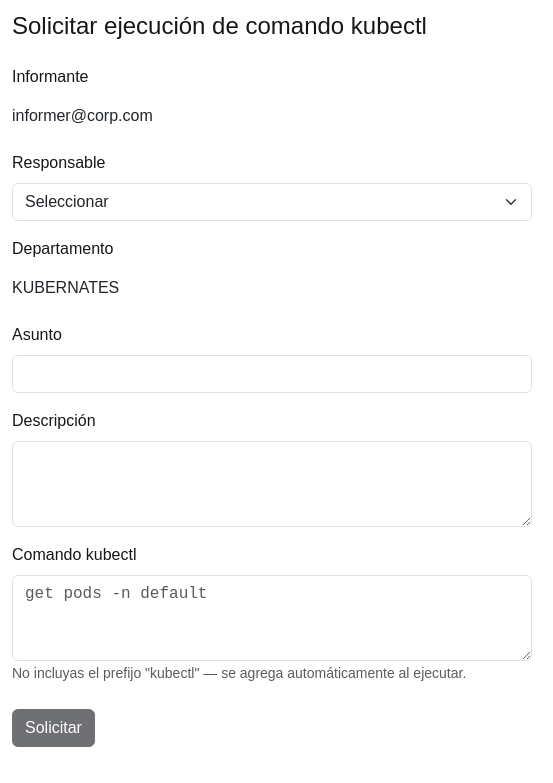
Test: KubectlCommandTicketForm › creates the ticket, shows a success message and clears the typed fields
Select "Ana" in the dropdown labelled "Responsable" at (272, 202), box left=12, top=183, right=532, bottom=221
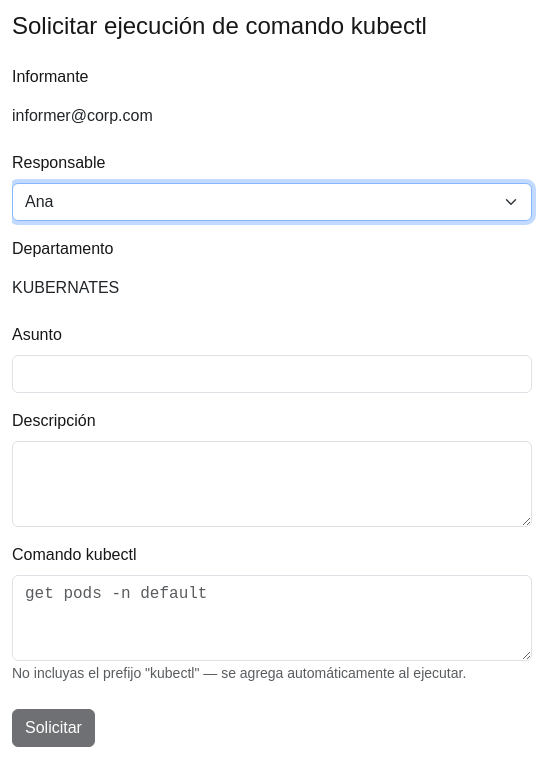
Type "Add index" into the field labelled "Asunto" at (272, 374), box left=12, top=355, right=532, bottom=393
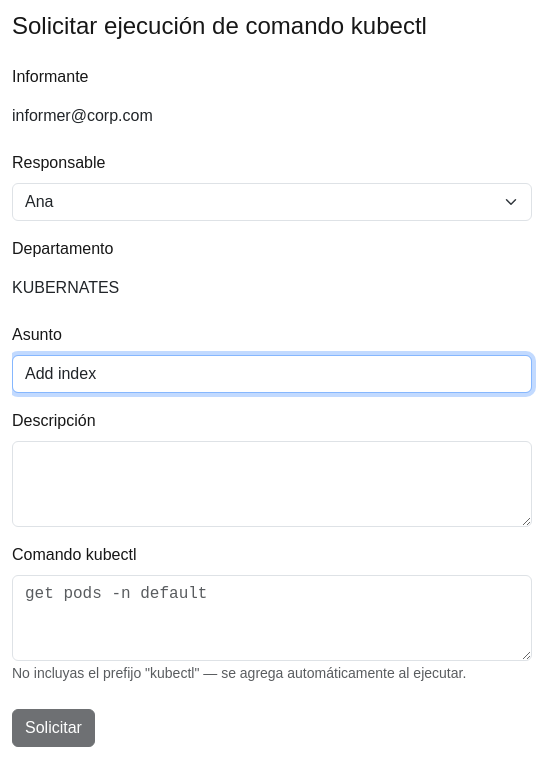
Type "Needs an index" into the text box labelled "Descripción" at (272, 484), box left=12, top=441, right=532, bottom=527
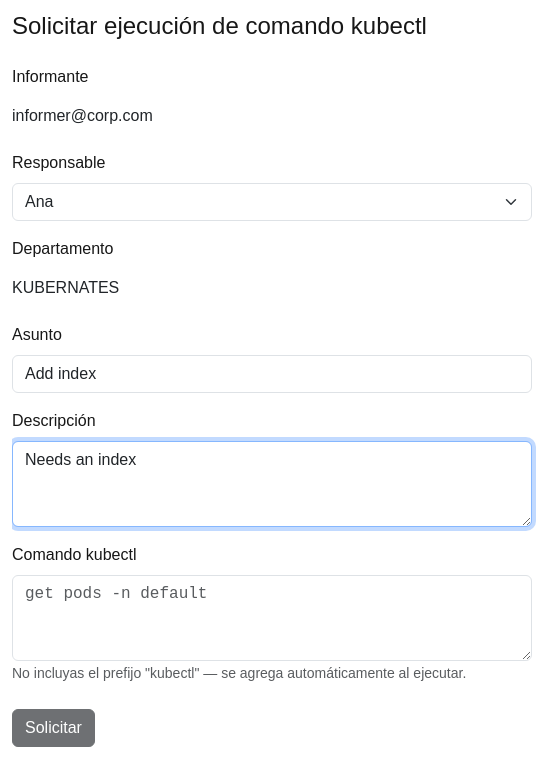
Type "get pods" into the text box labelled "Comando kubectl" at (272, 618), box left=12, top=575, right=532, bottom=661
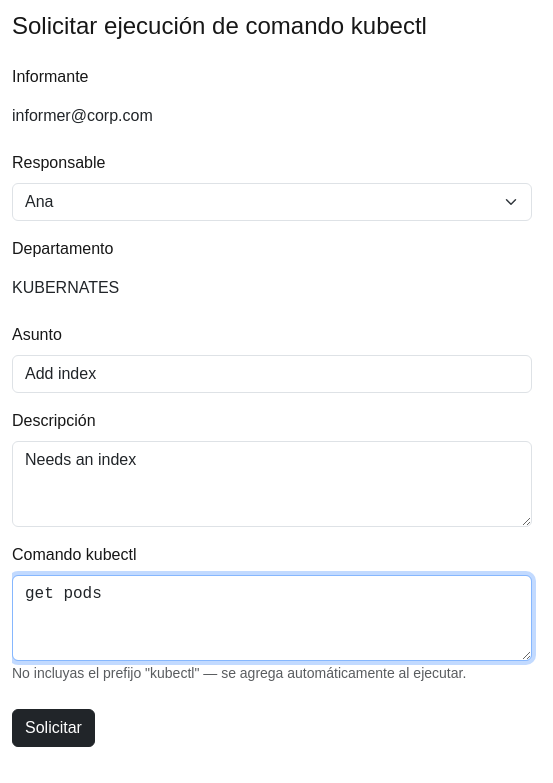
Click the button "Solicitar" at (53, 728), box left=12, top=709, right=95, bottom=747
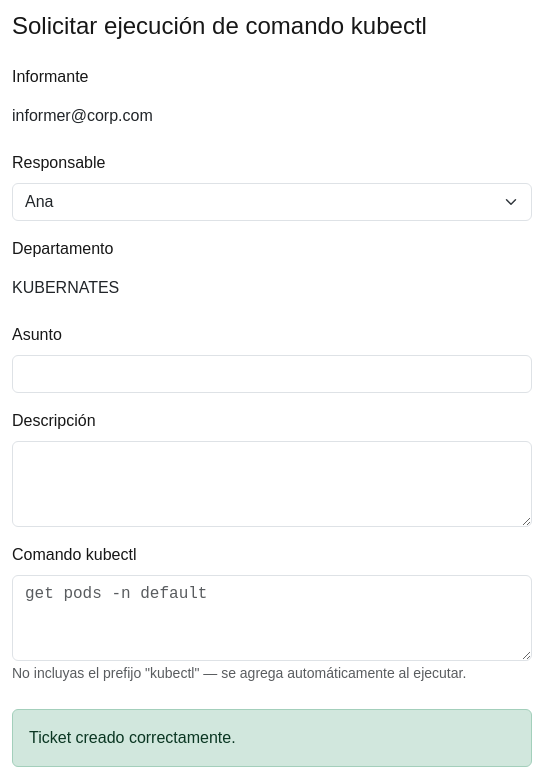
Expected: the text "Ticket creado correctamente." is shown, left=12, top=709, right=532, bottom=767
Expected: the field labelled "Asunto" is empty, left=12, top=355, right=532, bottom=393
Expected: the text box labelled "Descripción" is empty, left=12, top=441, right=532, bottom=527
